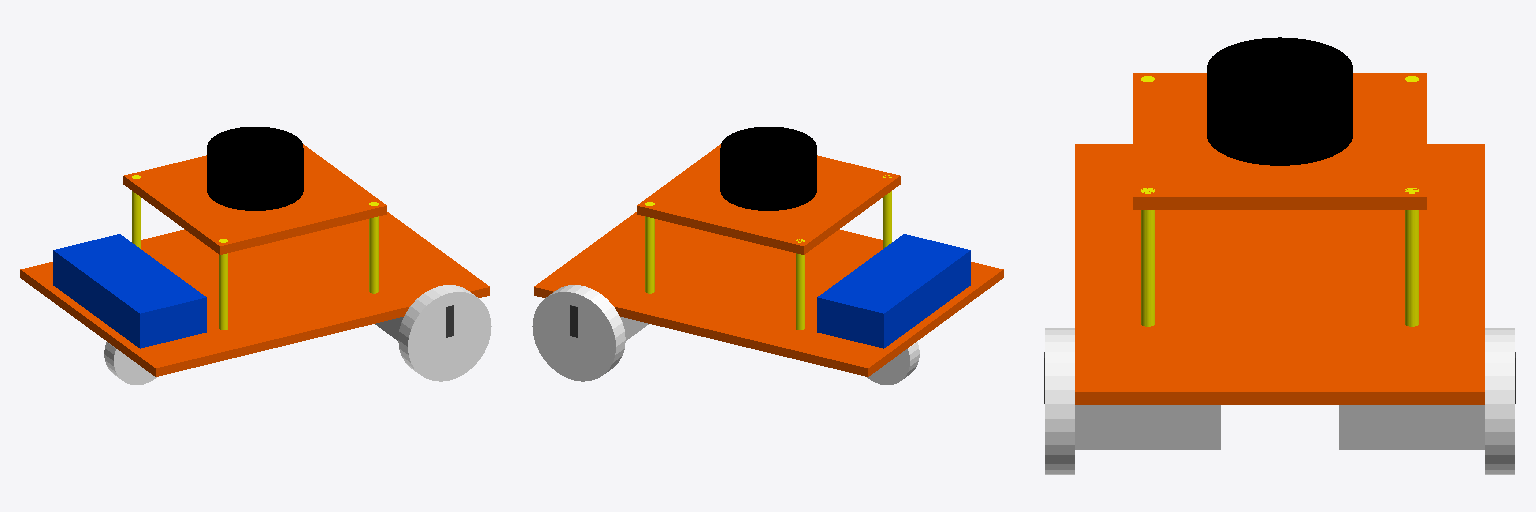
The robot description file, URDF, robot "my_robot":
<?xml version="1.0" ?>
<robot name="my_robot">

    <link name="base_link">
        <visual>
            <origin xyz=" 0 0 0" rpy="0 0 0" />
            <geometry>
                <box size="0.4 0.28 0.01"/>
            </geometry>
            <material name="yellow">
                <color rgba="1 0.4 0 1"/>
            </material>
        </visual>
     </link>

    <link name="left_motor_link">
        <visual>
            <origin xyz="0 0 0" rpy="0 0 0"/>
            <geometry>
                <box size="0.05 0.1 0.05"/>
            </geometry>
            <material name="gray">
                <color rgba="0.7 0.7 0.7"/>
            </material>
        </visual>
    </link>

    <link name="right_motor_link">
        <visual>
            <origin xyz="0 0 0" rpy="0 0 0"/>
            <geometry>
                <box size="0.05 0.1 0.05"/>
            </geometry>
            <material name="gray">
                <color rgba="0.7 0.7 0.7"/>
            </material>
        </visual>
    </link>

    <joint name="left_motor_joint" type="fixed">
        <origin xyz="0.14 -0.09 -0.03" rpy="0 0 0"/>
        <parent link="base_link"/>
        <child link="left_motor_link"/>
    </joint>

     <joint name="right_motor_joint" type="fixed">
        <origin xyz="0.14 0.09 -0.03" rpy="0 0 0"/>
        <parent link="base_link"/>
        <child link="right_motor_link"/>
    </joint>

    <link name="left_wheel_link">
        <visual>
            <origin xyz="0 0 0" rpy="1.5707 0 0" />
            <geometry>
                <cylinder radius="0.05" length="0.02" />
            </geometry>
            <material name="white">
                <color rgba="1 1 1 0.9" />
            </material>
        </visual>
    </link>


    <link name="right_wheel_link">
        <visual>
            <origin xyz="0 0 0" rpy="1.5707 0 0" />
            <geometry>
                <cylinder radius="0.05" length="0.02" />
            </geometry>
            <material name="white">
                <color rgba="1 1 1 0.9" />
            </material>
        </visual>
    </link>

    <joint name="left_wheel_joint" type="continuous">
        <origin xyz="0 -0.06 0" rpy="0 0 0"/>
        <parent link="left_motor_link"/>
        <child link="left_wheel_link"/>
        <axis xyz="0 1 0"/>
    </joint>

    <joint name="right_wheel_joint" type="continuous">
        <origin xyz="0 0.06 0" rpy="0 0 0"/>
        <parent link="right_motor_link"/>
        <child link="right_wheel_link"/>
        <axis xyz="0 1 0"/>
    </joint>

    <link name="left_wheel_point_link">
        <visual>
            <origin xyz="0 0 0" rpy="0 0 0"/>
            <geometry>
                <box size="0.01 0.001 0.035"/>
            </geometry>
            <material name="black">
                <color rgba="0.3 0.3 0.3 1"/>
            </material>
        </visual>
    </link>

    <link name="right_wheel_point_link">
        <visual>
            <origin xyz="0 0 0" rpy="0 0 0"/>
            <geometry>
                <box size="0.01 0.001 0.035"/>
            </geometry>
            <material name="black">
                <color rgba="0.3 0.3 0.3 1"/>
            </material>
        </visual>
    </link>

    <joint name="left_wheel_point_joint" type="fixed">
        <origin xyz="0 -0.01 0.0175" rpy="0 0 0"/>
        <parent link="left_wheel_link"/>
        <child link="left_wheel_point_link"/>
    </joint>


    <joint name="right_wheel_point_joint" type="fixed">
        <origin xyz="0 0.01 0.0175" rpy="0 0 0"/>
        <parent link="right_wheel_link"/>
        <child link="right_wheel_point_link"/>
    </joint>

    <link name="bogies_link">
        <visual>
            <origin xyz="0 0 0" rpy="0 0 0" />
            <geometry>
                <cylinder radius="0.02" length="0.04"/>
            </geometry>
            <material name="gray">
                <color rgba="0.85 0.85 0.85 1"/>
            </material>            
        </visual>
    </link>

    <joint name="bogies_joint" type="continuous">
        <origin xyz="-0.14 0 -0.025" rpy="0 0 0"/>
        <parent link="base_link"/>
        <child link="bogies_link"/>
        <axis xyz="0 0 1"/>
    </joint>

    <link name="back_wheel_link">
        <visual>
            <origin xyz="0 0 0" rpy="1.5707 0 0"/>
            <geometry>
                <cylinder radius="0.035" length="0.02"/>
            </geometry>
            <material name="white">
                <color rgba="1 1 1 0.9"/>
            </material>
        </visual>
    </link>

    <joint name="back_wheel_joint" type="continuous">
        <origin xyz="0 0 -0.02" rpy="0 0 0"/>
        <parent link="bogies_link"/>
        <child link="back_wheel_link"/>
        <axis xyz="0 1 0"/>
    </joint> 


    <link name="back_wheel_point_link">
        <visual>
            <origin xyz="0 0 0" rpy="0 0 0"/>
            <geometry>
                <box size="0.01 0.001 0.03"/>
            </geometry>
            <material name="black">
                <color rgba="0.3 0.3 0.3 1"/>
            </material>
        </visual>
    </link>

    <joint name="back_wheel_point_joint" type="fixed">
        <origin xyz="0 0.01 0.015" rpy="0 0 0"/>
        <parent link="back_wheel_link"/>
        <child link="back_wheel_point_link"/>
    </joint>

    <link name="kinect_link">
        <visual>
            <origin xyz="0 0 0" rpy="0 0 1.5708"/>
            <geometry>
                <mesh filename="package://my_robot_description/meshes/kinect.dae" />
            </geometry>
        </visual>
    </link>

    <joint name="kinect_joint" type="fixed">
        <origin xyz="0.14 0 0.040" rpy="0 0 0"/>
        <parent link="base_link"/>
        <child link="kinect_link"/>
    </joint>

    <link name="column_link_1">
     <visual>
            <origin xyz="0 0 0" rpy="0 0 0"/>
            <geometry>
                <cylinder radius="0.005" length="0.1"/>
            </geometry>
            <material name="black">
                <color rgba="1 1 0 1"/>
            </material>
        </visual>
    </link>

    <joint name="column_joint_1" type="fixed">
        <origin xyz="0.09 0.09 0.055" rpy="0 0 0"/>
        <parent link="base_link"/>
        <child link="column_link_1"/>
    </joint>

     <link name="column_link_2">
     <visual>
            <origin xyz="0 0 0" rpy="0 0 0"/>
            <geometry>
                <cylinder radius="0.005" length="0.1"/>
            </geometry>
            <material name="black">
                <color rgba="1 1 0 1"/>
            </material>
        </visual>
    </link>

    <joint name="column_joint_2" type="fixed">
        <origin xyz="0.09 -0.09 0.055" rpy="0 0 0"/>
        <parent link="base_link"/>
        <child link="column_link_2"/>
    </joint>

     <link name="column_link_3">
     <visual>
            <origin xyz="0 0 0" rpy="0 0 0"/>
            <geometry>
                <cylinder radius="0.005" length="0.1"/>
            </geometry>
            <material name="black">
                <color rgba="1 1 0 1"/>
            </material>
        </visual>
    </link>

    <joint name="column_joint_3" type="fixed">
        <origin xyz="-0.09 0.09 0.055" rpy="0 0 0"/>
        <parent link="base_link"/>
        <child link="column_link_3"/>
    </joint>

     <link name="column_link_4">
     <visual>
            <origin xyz="0 0 0" rpy="0 0 0"/>
            <geometry>
                <cylinder radius="0.005" length="0.1"/>
            </geometry>
            <material name="black">
                <color rgba="1 1 0 1"/>
            </material>
        </visual>
    </link>

    <joint name="column_joint_4" type="fixed">
        <origin xyz="-0.09 -0.09 0.055" rpy="0 0 0"/>
        <parent link="base_link"/>
        <child link="column_link_4"/>
    </joint>

    <link name="up_board_link">
     <visual>
            <origin xyz="0 0 0" rpy="0 0 0"/>
            <geometry>
                <box size="0.2 0.2 0.01"/>
            </geometry>
            <material name="yellow">
                <color rgba="1 0.4 0 1"/>
            </material>
        </visual>
    </link>

    <joint name="up_board_joint" type="fixed">
        <origin xyz="0 0 0.1" rpy="0 0 0"/>
        <parent link="base_link"/>
        <child link="up_board_link"/>
    </joint>

    <link name="lidar_link">
     <visual>
            <origin xyz="0 0 0" rpy="0 0 0"/>
            <geometry>
                <cylinder radius="0.05" length="0.05"/>
            </geometry>
            <material name="black">
                <color rgba="0 0 0 1"/>
            </material>
        </visual>
    </link>

    <joint name="lidar_joint" type="fixed">
        <origin xyz="0 0 0.03" rpy="0 0 0"/>
        <parent link="up_board_link"/>
        <child link="lidar_link"/>
    </joint> 

    <link name="battery_link">
        <visual>
            <origin xyz="0 0 0" rpy="0 0 0"/>
            <geometry>
                <box size="0.08 0.18 0.04"/>
            </geometry>
            <material name="blue">
                <color rgba="0 0.3 0.9 1"/>
            </material>
        </visual>
    </link>

    <joint name="battery_joint" type="fixed">
        <origin xyz="-0.15 0 0.025" rpy="0 0 0"/>
        <parent link="base_link"/>
        <child link="battery_link"/>
    </joint>
</robot>

--- Render facts (derived) ---
The picture shows the robot from 3 angles, left to right: view 1: azimuth 30°, elevation 25°; view 2: azimuth 150°, elevation 25°; view 3: azimuth 270°, elevation 25°; orthographic projection.
Model my_robot with 18 links and 17 joints (4 continuous, 13 fixed), rooted at base_link, posed every joint at zero.
Links seen in each view (by area): view 1: base_link, up_board_link, battery_link, lidar_link, left_wheel_link, back_wheel_link, column_link_2, column_link_4; view 2: base_link, up_board_link, battery_link, lidar_link, right_wheel_link, back_wheel_link, column_link_1, column_link_3; view 3: base_link, up_board_link, lidar_link, left_motor_link, right_motor_link, left_wheel_link, right_wheel_link, column_link_2, column_link_1.
Link boxes in pixels (x1,y1,x2,y2): base_link: (20, 212, 489, 376); up_board_link: (123, 144, 386, 254); battery_link: (53, 234, 206, 348); lidar_link: (207, 127, 303, 210); left_wheel_link: (398, 285, 491, 381); back_wheel_link: (104, 342, 156, 384); column_link_2: (369, 202, 378, 293); column_link_4: (219, 239, 227, 329); base_link: (534, 212, 1003, 376); up_board_link: (637, 144, 900, 254); battery_link: (817, 234, 970, 348); lidar_link: (720, 127, 816, 210); right_wheel_link: (532, 285, 625, 381); back_wheel_link: (867, 342, 919, 384); column_link_1: (645, 202, 654, 293); column_link_3: (796, 239, 804, 329); base_link: (1075, 144, 1484, 404); up_board_link: (1133, 73, 1426, 209); lidar_link: (1207, 37, 1352, 165); left_motor_link: (1075, 405, 1220, 449); right_motor_link: (1339, 405, 1484, 449); left_wheel_link: (1045, 328, 1074, 474); right_wheel_link: (1485, 328, 1514, 474); column_link_2: (1141, 188, 1154, 326); column_link_1: (1405, 188, 1418, 326).
Bounding box of the posed robot: 0.4 × 0.321 × 0.235 m (x, y, z).
Meshes: 1 distinct files referenced, 0 mesh visuals loaded (none loaded); not drawn: 1 (reference not matched to a file when rendering).